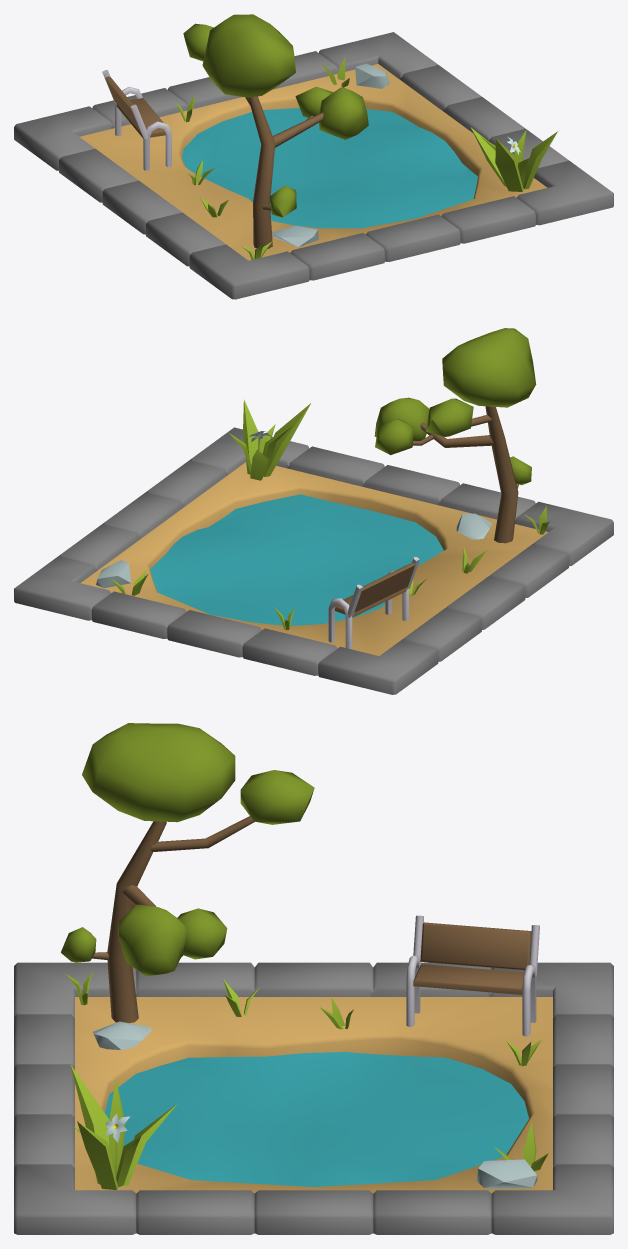
File: Park.fbx
3 views of the same model, one above another, from view 1: azimuth 30°, elevation 25°; view 2: azimuth 150°, elevation 25°; view 3: azimuth 270°, elevation 25° (orthographic). The views are drawn at different scales.
Visible parts, largest first — view 1: LILPark_plane, LILPark_plane.001, LILPark; view 2: LILPark_plane, LILPark_plane.001, LILPark; view 3: LILPark_plane, LILPark_plane.001, LILPark.
Boxes of the visible parts, left/top/right/bottom form: LILPark_plane: left=79, top=64, right=547, bottom=260; LILPark_plane.001: left=14, top=32, right=613, bottom=299; LILPark: left=102, top=14, right=557, bottom=259; LILPark_plane: left=80, top=462, right=548, bottom=655; LILPark_plane.001: left=14, top=427, right=613, bottom=694; LILPark: left=96, top=328, right=550, bottom=648; LILPark_plane: left=75, top=997, right=552, bottom=1193; LILPark_plane.001: left=14, top=962, right=613, bottom=1234; LILPark: left=61, top=723, right=548, bottom=1189.
Bounding box in the file's own units: 8 × 4.91 × 8.
